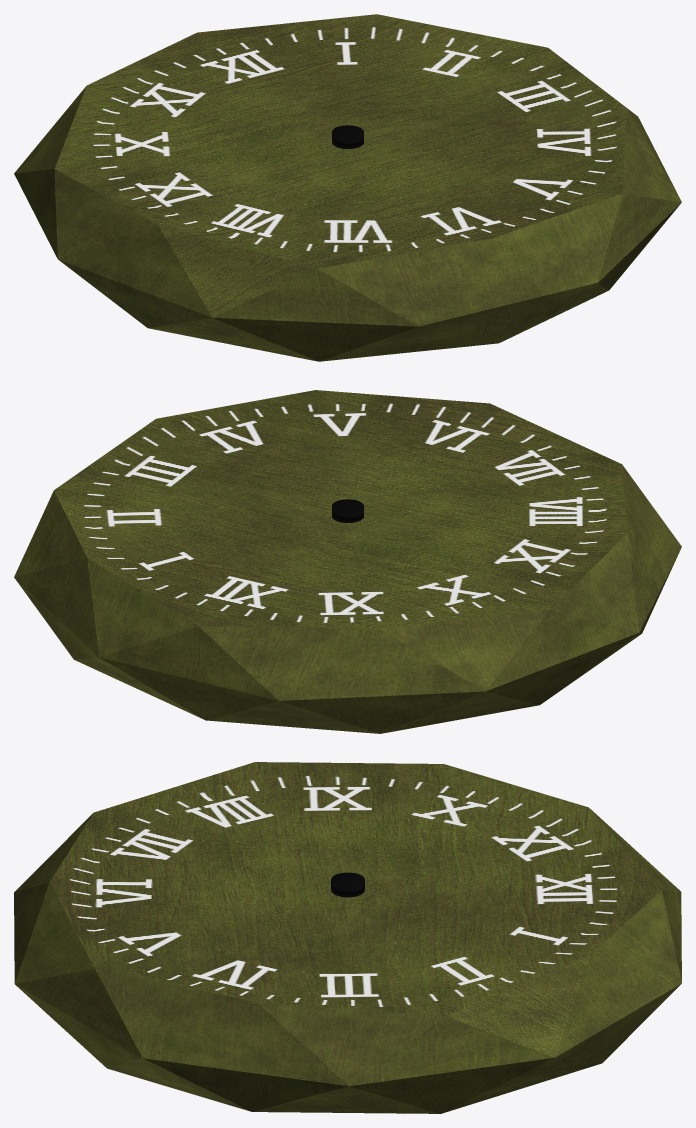
The model's file is mdl_hub_greenwoodclock.gltf.
3 renders of one model, top to bottom at view 1: azimuth 30°, elevation 25°; view 2: azimuth 150°, elevation 25°; view 3: azimuth 270°, elevation 25°, orthographic. The views are drawn at different scales.
Parts seen in each view (by area): view 1: Icosphere, Cylinder.001; view 2: Icosphere, Cylinder.001; view 3: Icosphere, Cylinder.001.
Part boxes in pixels (bbox=[...]): Icosphere: bbox=[14, 14, 681, 361]; Cylinder.001: bbox=[332, 125, 363, 148]; Icosphere: bbox=[14, 390, 681, 733]; Cylinder.001: bbox=[332, 499, 363, 522]; Icosphere: bbox=[14, 762, 681, 1113]; Cylinder.001: bbox=[331, 872, 364, 897].
Bounding box in the file's own units: 2 × 0.3598 × 1.9.
Materials: 3 (2 with a texture image).
